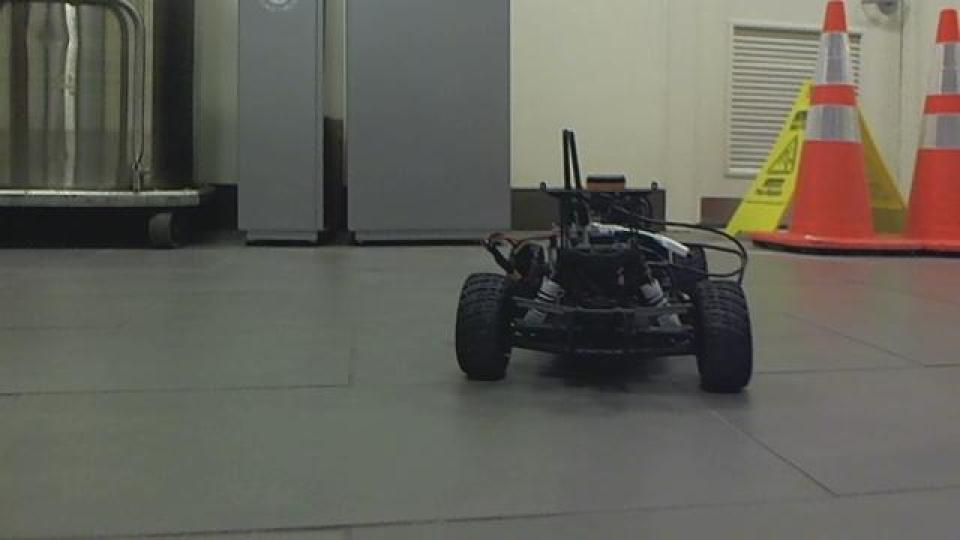car: (450, 126, 756, 396)
